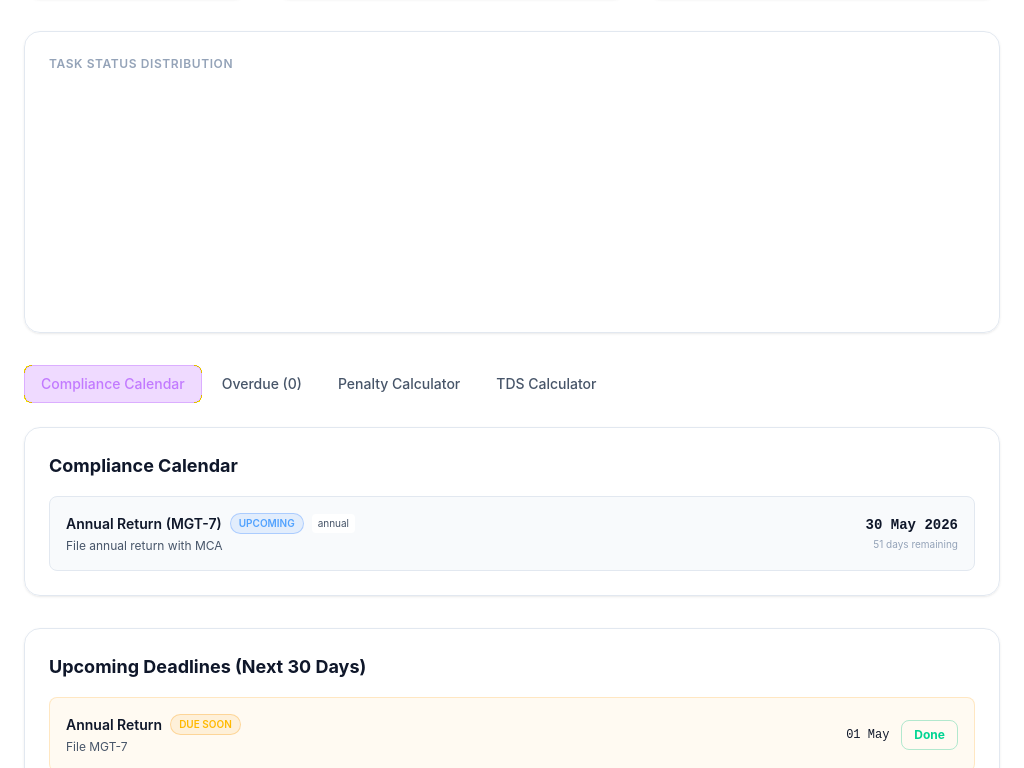
it: ComplianceDashboard › renders the TDS calculator tab
The width and height of the screenshot is (1024, 768).
(page scrolled)
Click the button "TDS Calculator" at coordinates (546, 384), box [480,365,613,403]
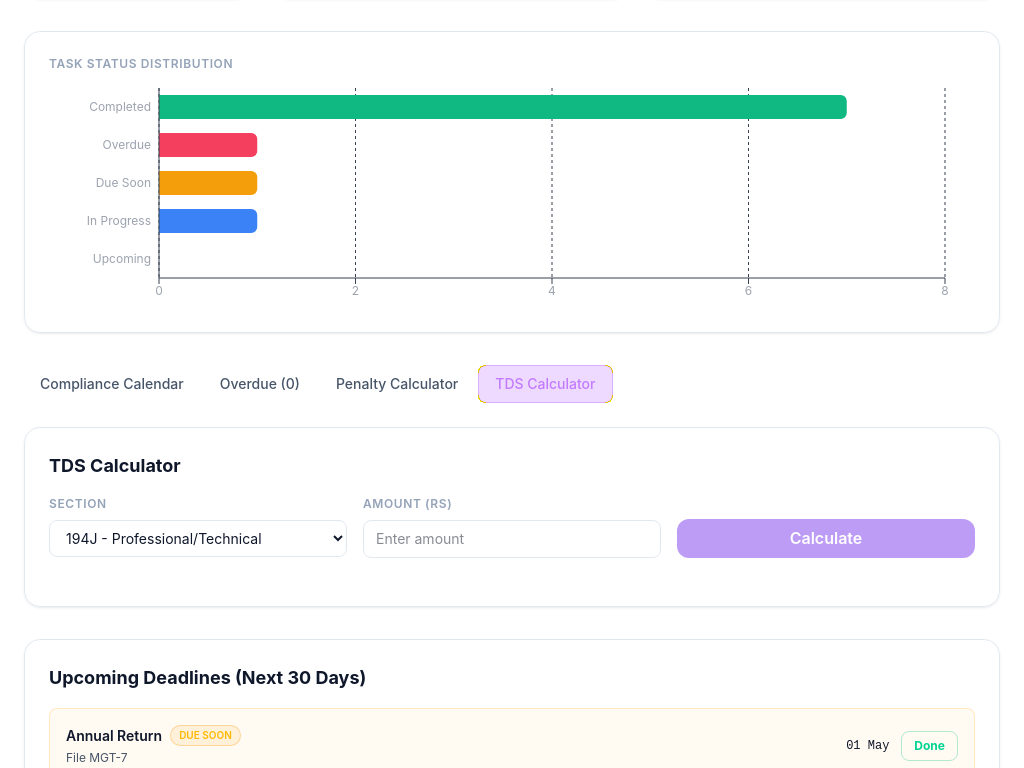
expect the text "Section" is shown: met, box [49,496,107,511]
expect the number field with placeholder "Enter amount" is shown: met, box [363,520,661,558]
